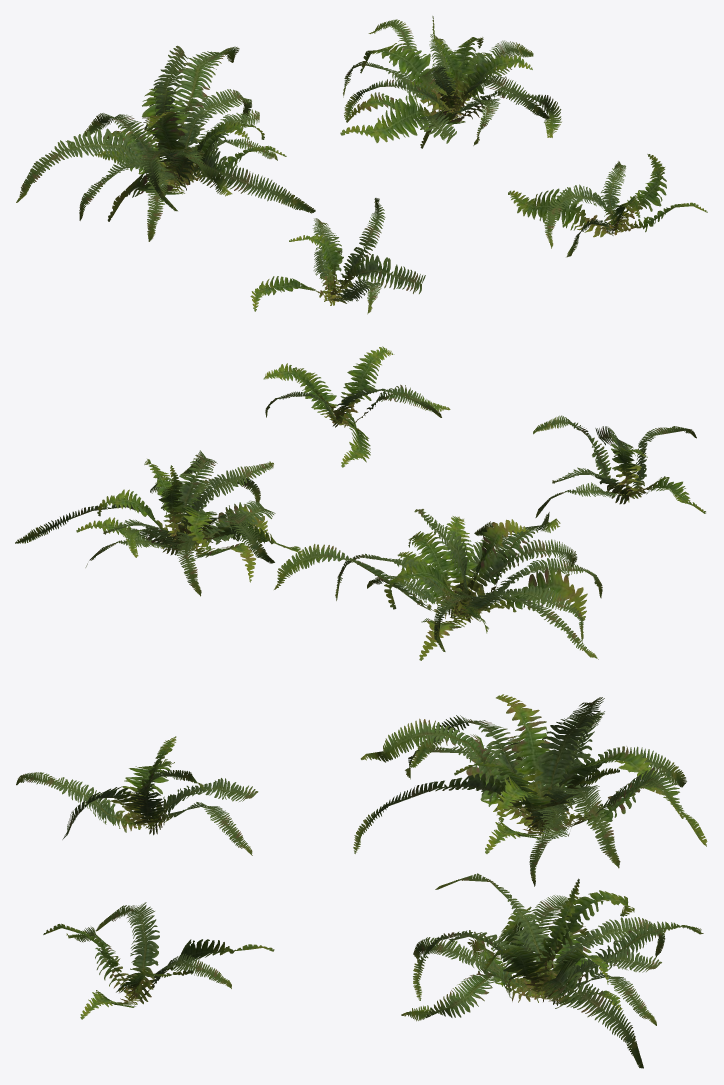
The model's file is fern.glb.
3 renders of one model, top to bottom at view 1: azimuth 30°, elevation 25°; view 2: azimuth 150°, elevation 25°; view 3: azimuth 270°, elevation 25°, orthographic. The views are drawn at different scales.
Visible parts, largest first — view 1: fern_02_b, fern_02_c, fern_02_a, fern_02_d; view 2: fern_02_b, fern_02_c, fern_02_d, fern_02_a; view 3: fern_02_b, fern_02_c, fern_02_a, fern_02_d.
Part boxes in pixels (<box>): fern_02_b: <box>16,45,315,241</box>; fern_02_c: <box>340,16,561,148</box>; fern_02_a: <box>250,198,425,314</box>; fern_02_d: <box>508,154,707,257</box>; fern_02_b: <box>274,509,602,660</box>; fern_02_c: <box>15,450,303,596</box>; fern_02_d: <box>263,346,450,467</box>; fern_02_a: <box>533,415,705,517</box>; fern_02_b: <box>353,694,707,886</box>; fern_02_c: <box>401,873,703,1068</box>; fern_02_a: <box>16,736,258,855</box>; fern_02_d: <box>43,902,274,1019</box>.
Bounding box in the file's own units: 1.97 × 0.4277 × 1.72.
Materials: 1 (1 with a texture image).
